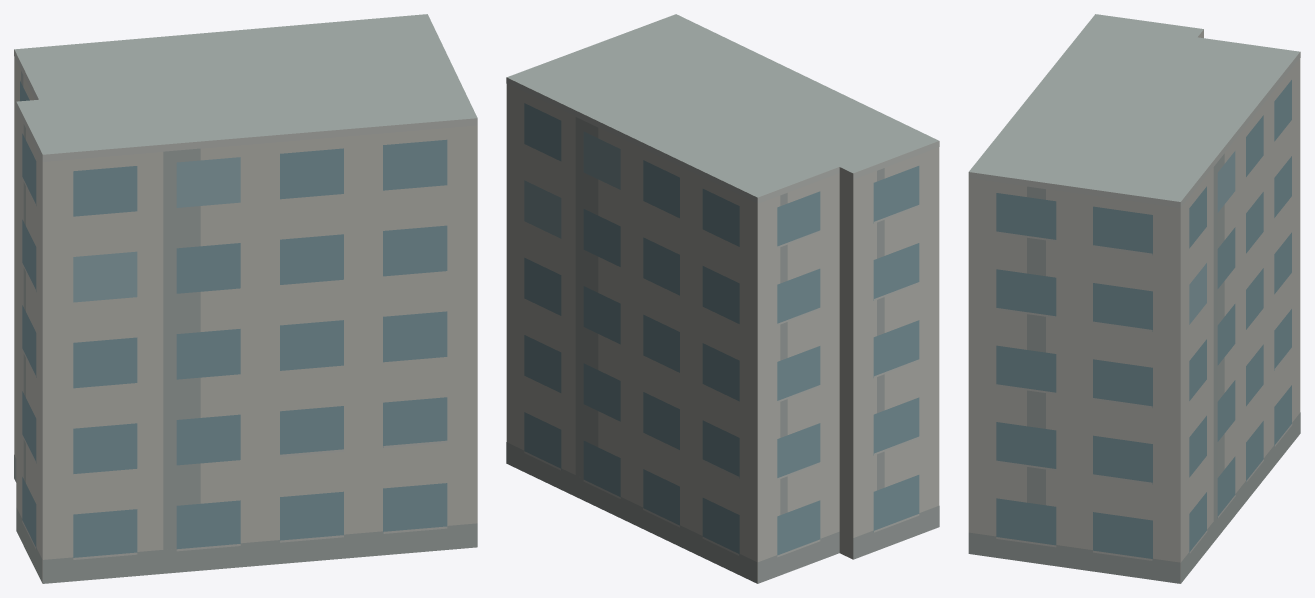
File: survey-upis-32711178.glb
The picture shows the model from 3 angles, left to right: view 1: azimuth 30°, elevation 25°; view 2: azimuth 150°, elevation 25°; view 3: azimuth 270°, elevation 25°; orthographic projection. The views are drawn at different scales.
Visible parts, largest first — view 1: survey-upis-32711178.tmp; view 2: survey-upis-32711178.tmp; view 3: survey-upis-32711178.tmp.
Part boxes in pixels (<box>): survey-upis-32711178.tmp: <box>14,14,477,583</box>; survey-upis-32711178.tmp: <box>506,14,939,583</box>; survey-upis-32711178.tmp: <box>968,14,1300,583</box>.
Size of the model in its own units: 15.69 by 14.85 by 11.7.
